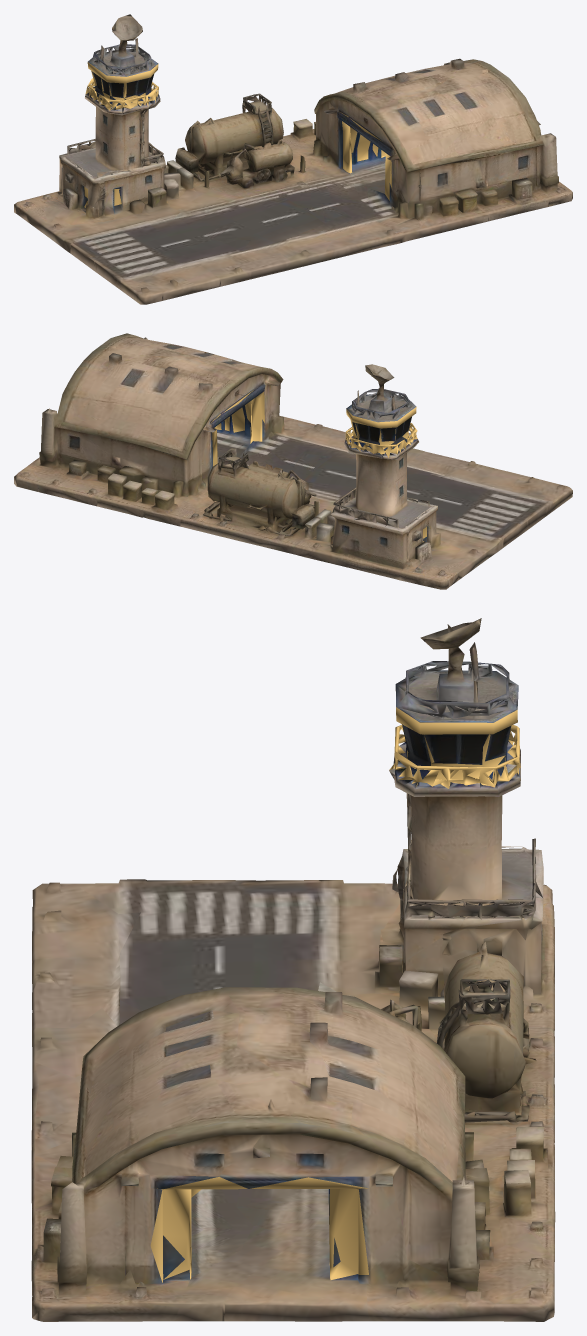
The model's file is airport.glb.
3 renders of one model, top to bottom at view 1: azimuth 30°, elevation 25°; view 2: azimuth 150°, elevation 25°; view 3: azimuth 270°, elevation 25°, orthographic. The views are drawn at different scales.
Parts seen in each view (by area): view 1: Model; view 2: Model; view 3: Model.
Part boxes in pixels (x1,y1,x2,y2): Model: (14,14,572,304); Model: (14,333,572,589); Model: (31,618,555,1321).
Size of the model in its own units: 2 by 0.8252 by 1.05.
2 materials, 1 textured.
